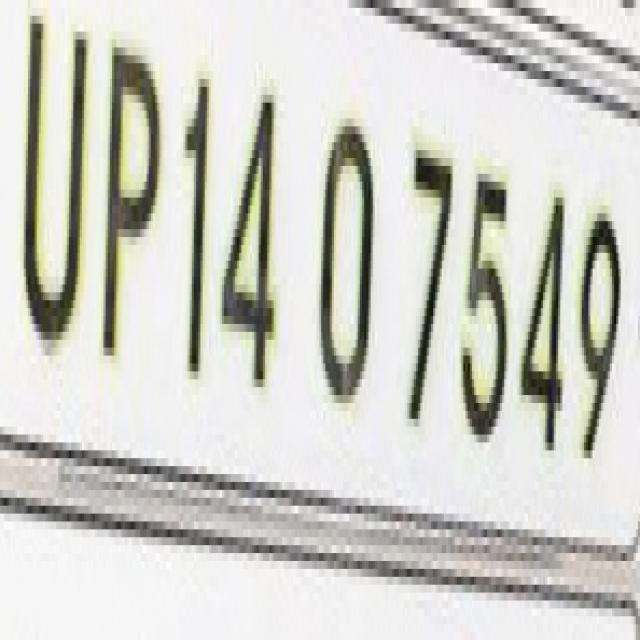0: (317, 77, 374, 427)
1: (179, 31, 209, 410)
4: (218, 44, 280, 410), (518, 123, 568, 464)
5: (459, 117, 513, 470)
7: (398, 82, 456, 455)
9: (576, 154, 622, 483)
P: (102, 7, 164, 403)
U: (17, 3, 92, 386)
